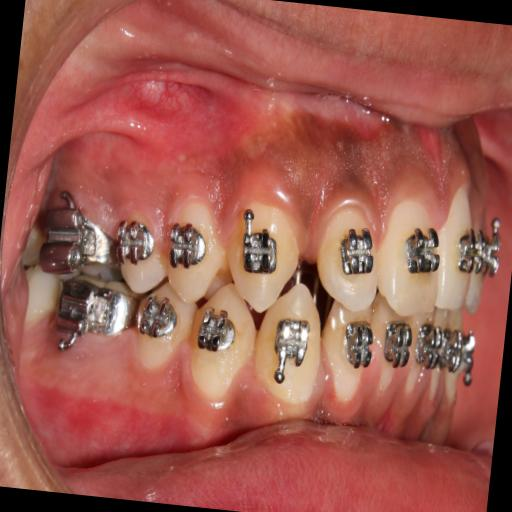correct_brace: (182, 275, 260, 413), (156, 182, 234, 308), (232, 204, 286, 282), (266, 312, 315, 387), (333, 220, 382, 286), (194, 304, 240, 366)
incorrect_brace: (310, 194, 390, 318), (163, 215, 211, 274)
